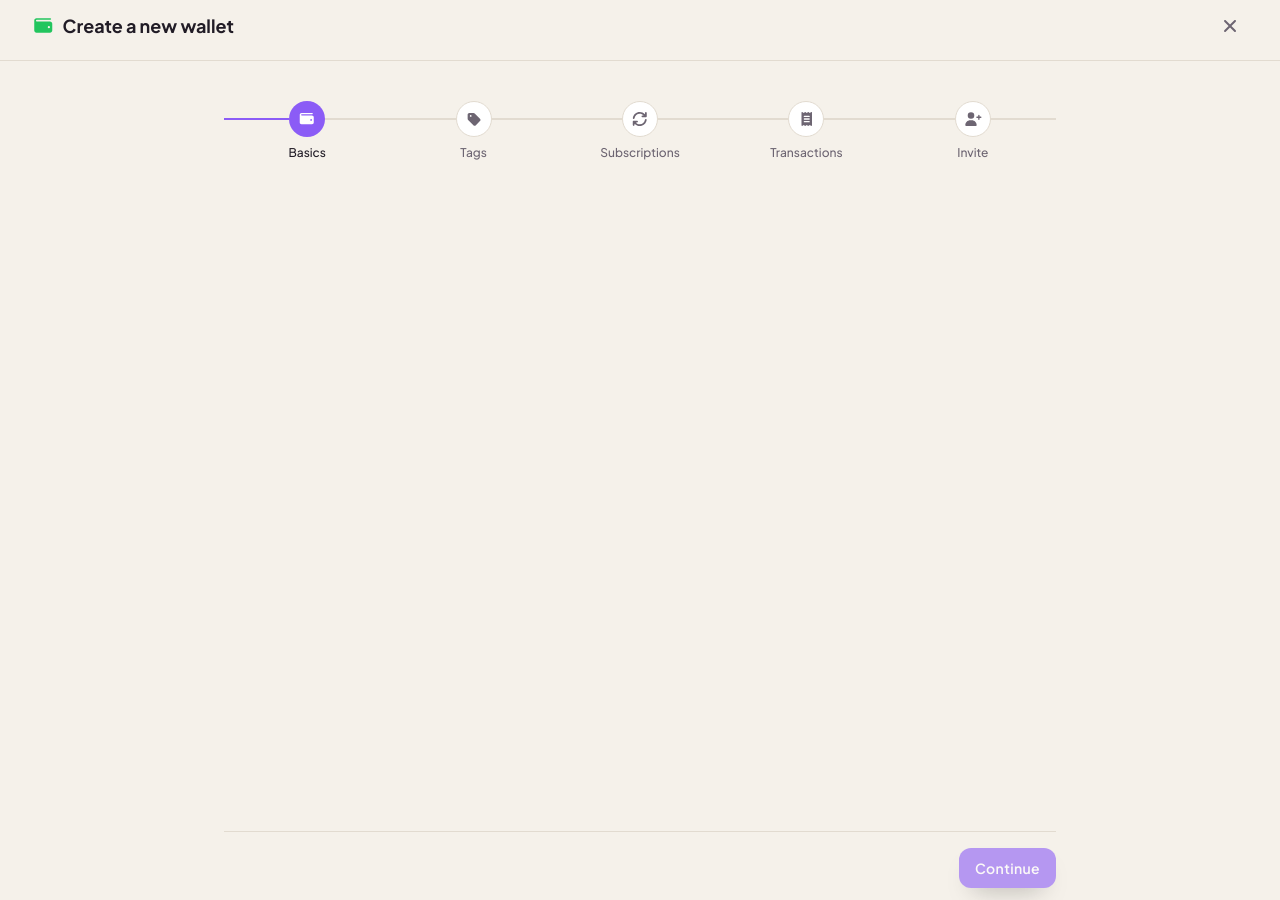
Test case: CreateWalletWizard › prompts on close even for an untouched draft, keeping the wizard open
Step 1. Click the button named "Close" → [1230, 26], box [1212,8,1248,44]
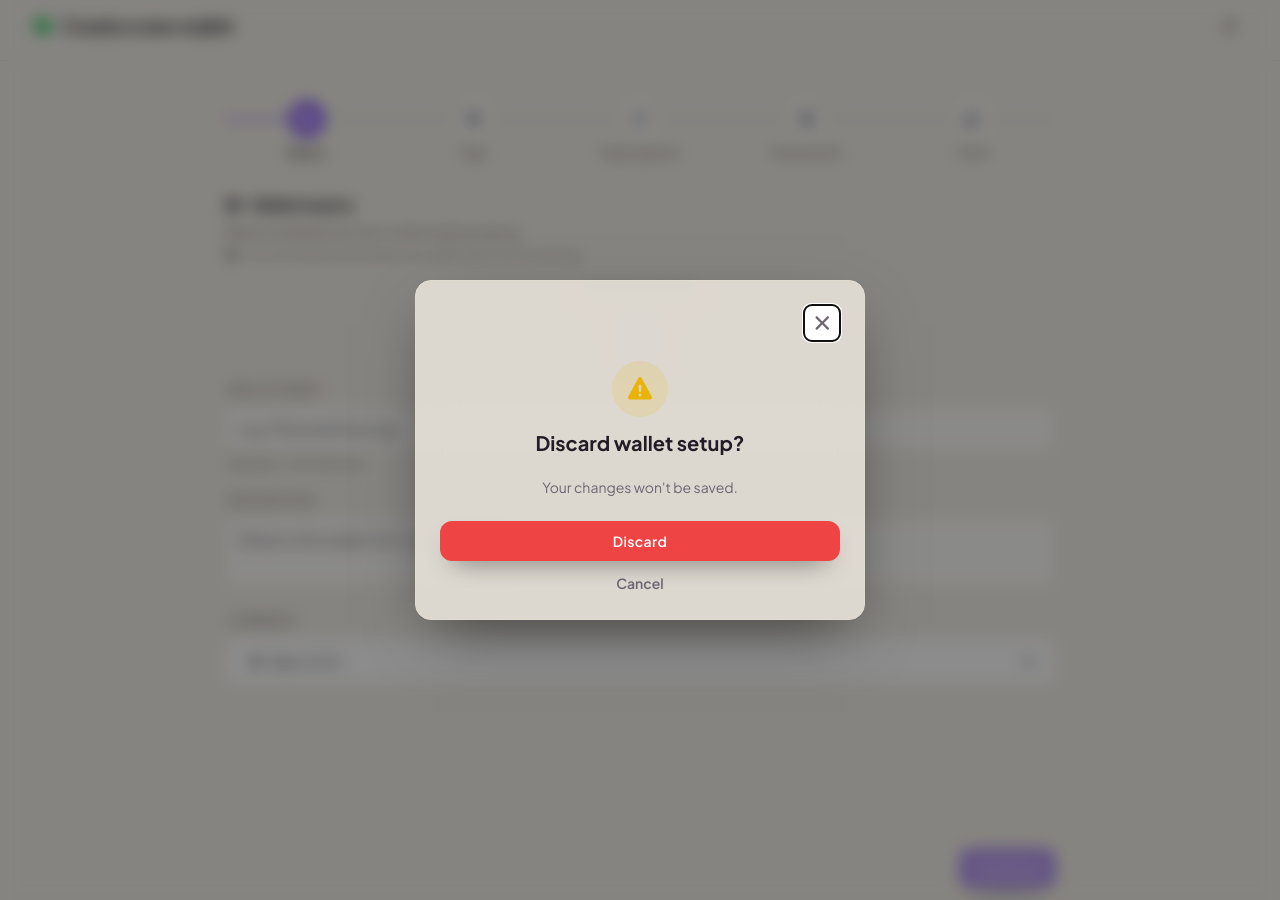
Expected: the text "Create a new wallet" is shown, [32,12,234,40]
Expected: the heading "Discard wallet setup?" is shown, [536,429,745,457]
